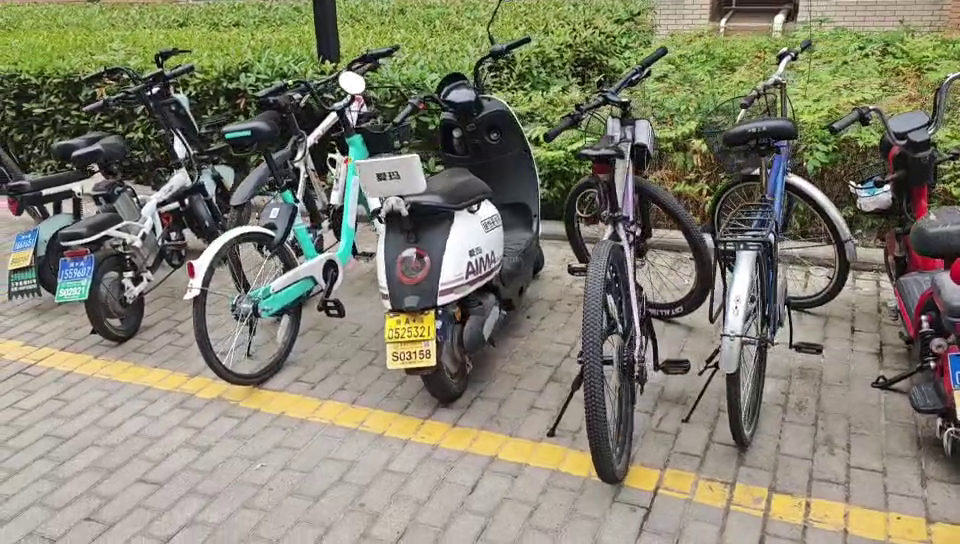others: (713, 40, 856, 485), (389, 42, 540, 411), (547, 50, 681, 459), (841, 58, 960, 481), (14, 69, 192, 329)
shared_bike_qingcong: (192, 74, 391, 369)
